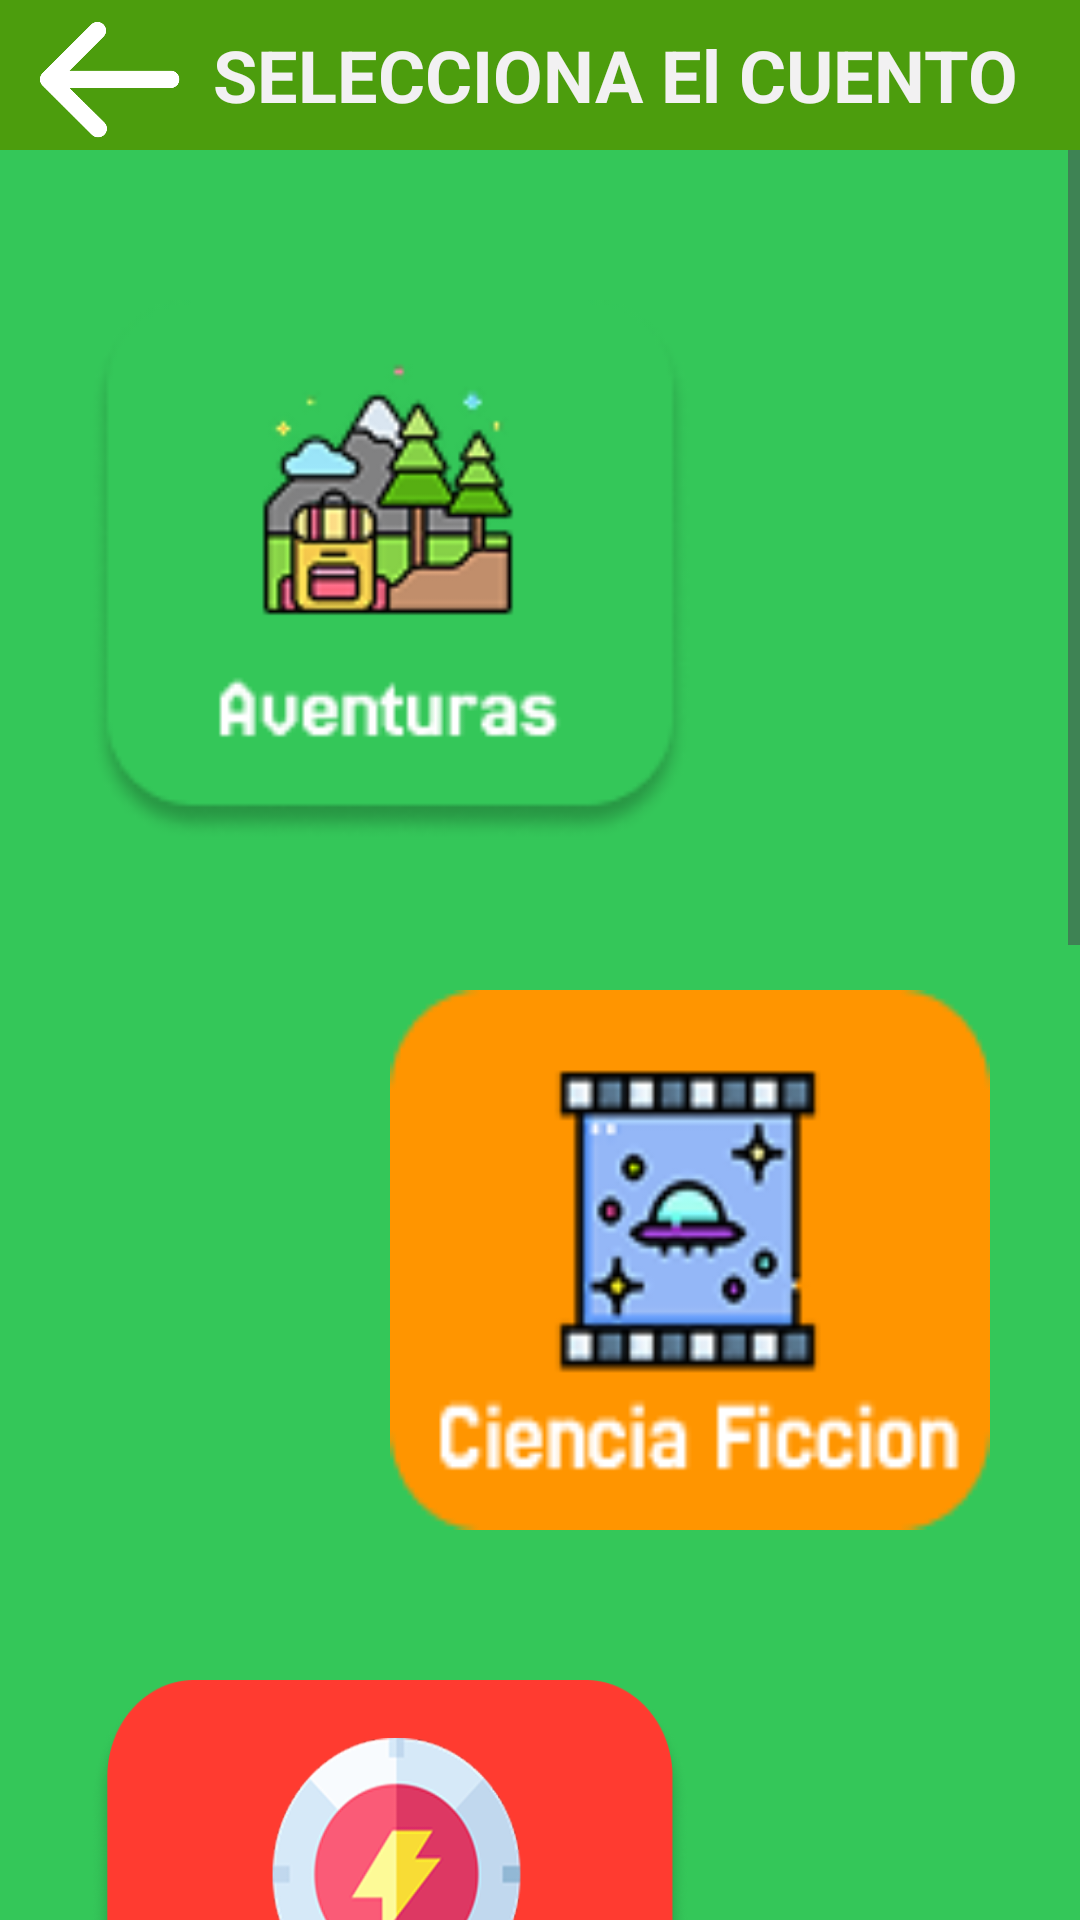

Where icons sit on this 1080×1920 app screen, as [x1,y1,x2,y2]:
flecha izquierda: [40,22,180,138]
